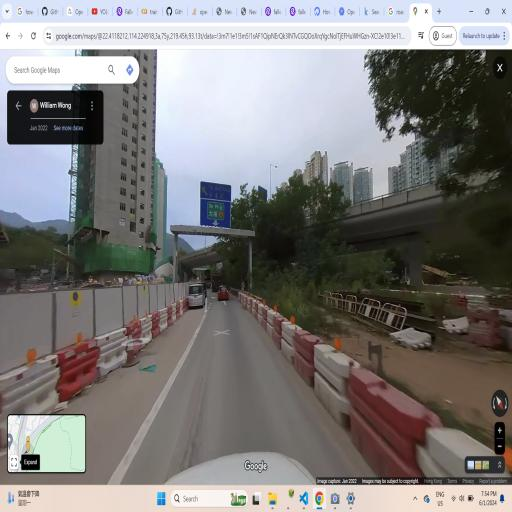Roads: (189, 269, 346, 490)
Trees: (234, 174, 354, 324)
